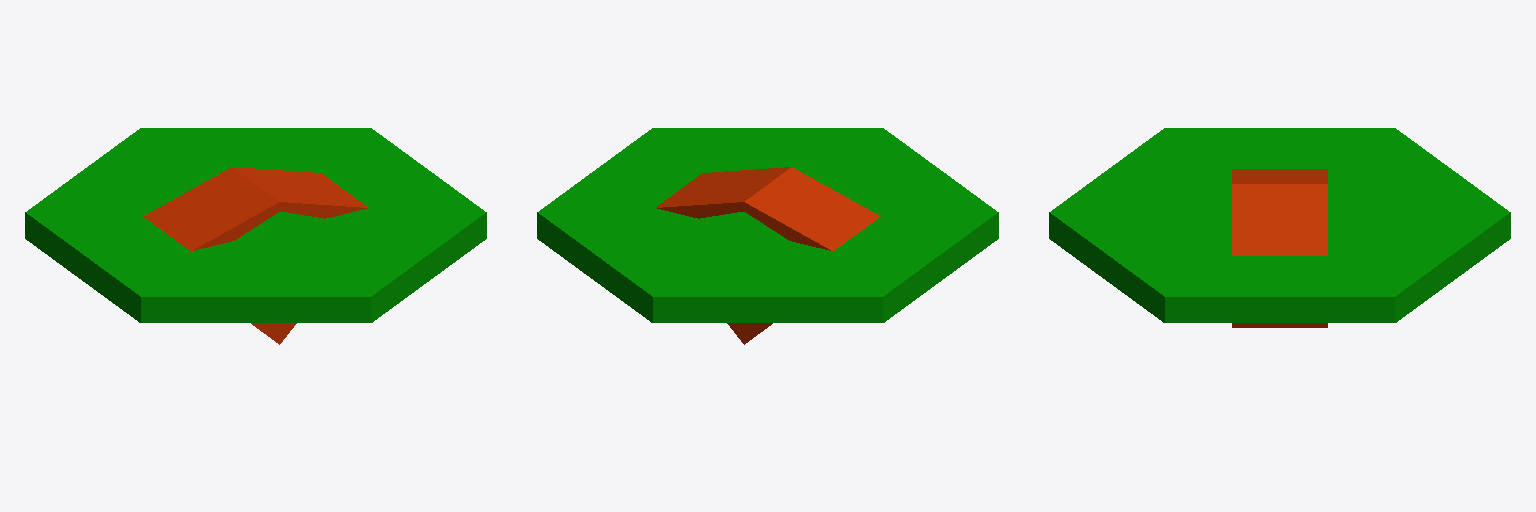
Rendered from map3.obj.
3 views of the same model, side by side, from view 1: azimuth 30°, elevation 25°; view 2: azimuth 150°, elevation 25°; view 3: azimuth 270°, elevation 25° (orthographic).
Parts seen in each view (by area): view 1: Cylinder, Cube_Cube.003; view 2: Cylinder, Cube_Cube.003; view 3: Cylinder, Cube_Cube.003.
Boxes of the visible parts, <box> form: Cylinder: <box>25,128,486,322</box>; Cube_Cube.003: <box>143,167,367,344</box>; Cylinder: <box>537,128,998,322</box>; Cube_Cube.003: <box>656,167,880,344</box>; Cylinder: <box>1049,128,1510,322</box>; Cube_Cube.003: <box>1232,169,1327,327</box>.
Bounding box in the file's own units: 8.34 × 3.3 × 9.63.